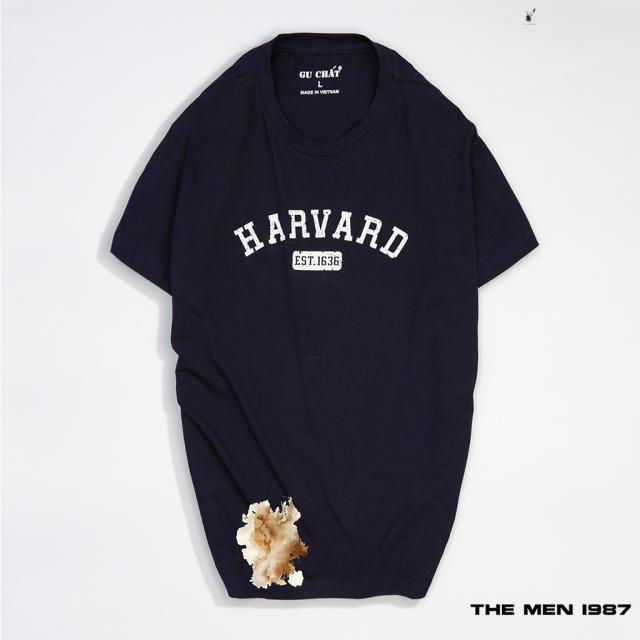stain: (240, 491, 306, 589)
